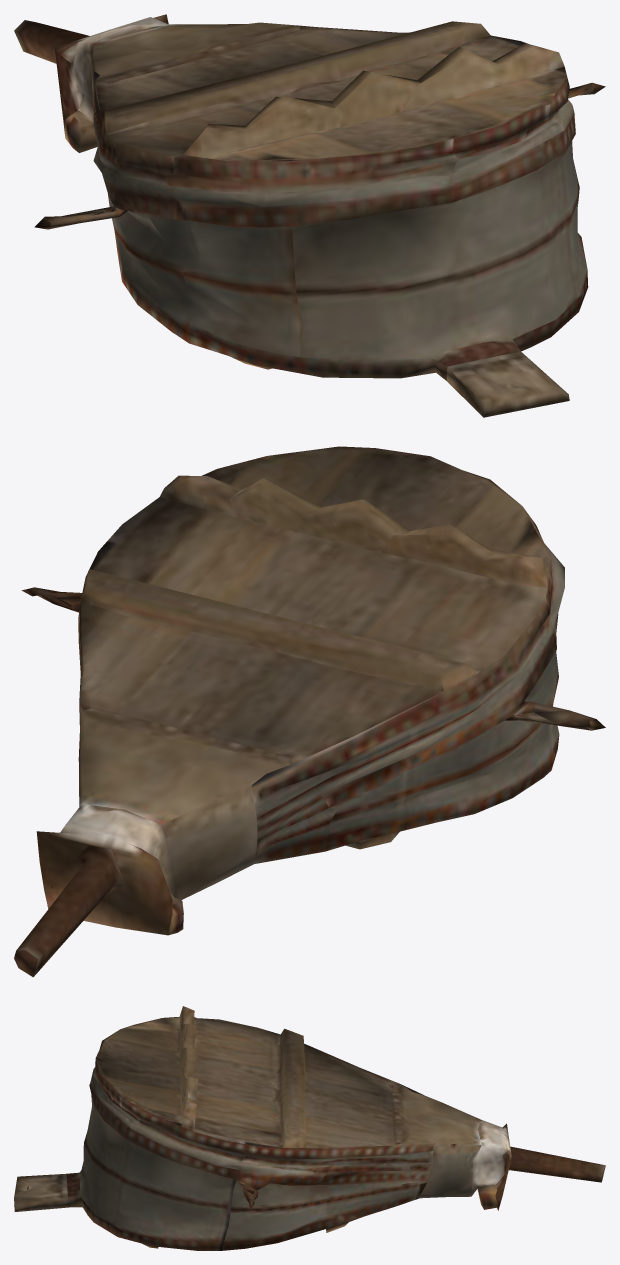
Rendered from Q_Bellows.fbx.
3 views of the same model, one above another, from view 1: azimuth 30°, elevation 25°; view 2: azimuth 150°, elevation 25°; view 3: azimuth 270°, elevation 25° (orthographic). The views are drawn at different scales.
Parts seen in each view (by area): view 1: Aset_wood_other_M_ugchfgdga_LOD5; view 2: Aset_wood_other_M_ugchfgdga_LOD5; view 3: Aset_wood_other_M_ugchfgdga_LOD5.
Boxes of the visible parts, x1=… form: Aset_wood_other_M_ugchfgdga_LOD5: x1=14, y1=14, x2=605, y2=417; Aset_wood_other_M_ugchfgdga_LOD5: x1=14, y1=446, x2=605, y2=977; Aset_wood_other_M_ugchfgdga_LOD5: x1=14, y1=1006, x2=605, y2=1250.
Bounding box in the file's own units: 44.62 × 17.89 × 64.7.
Materials: 1 (1 with a texture image).
